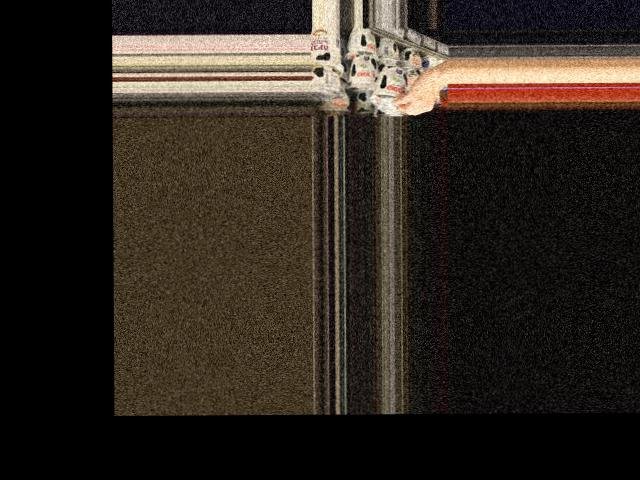cotage: (370, 67, 405, 104)
